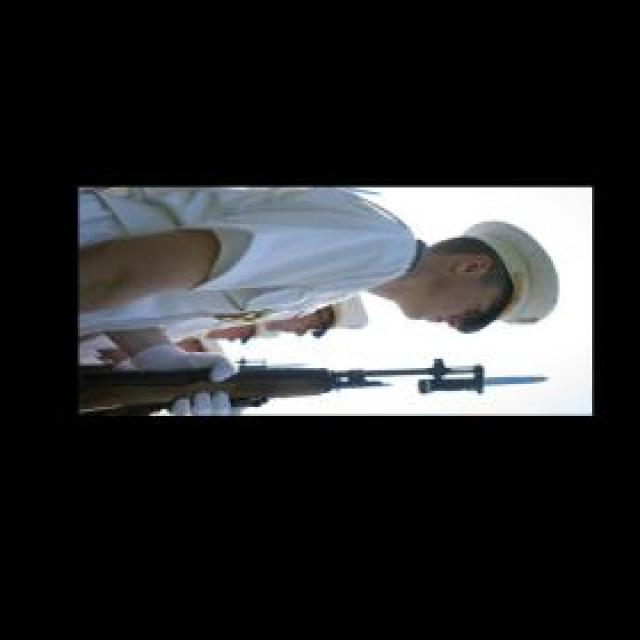knife: (420, 369, 553, 400)
